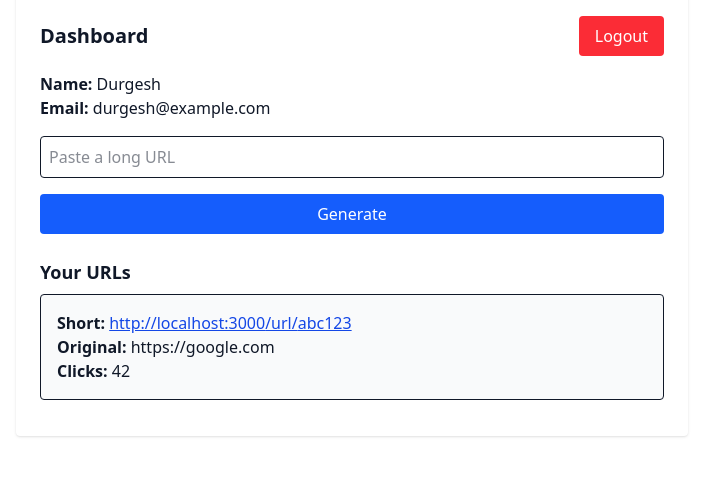
Test: Dashboard Component › shows validation error if input is empty
Click the button "Generate" at (352, 214), box [40,194,664,234]
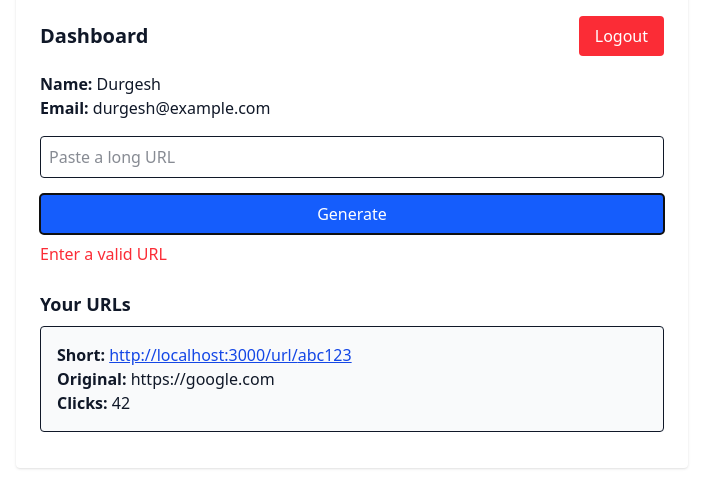
Check: the text "Enter a valid URL" is shown, box [40,243,167,265]
